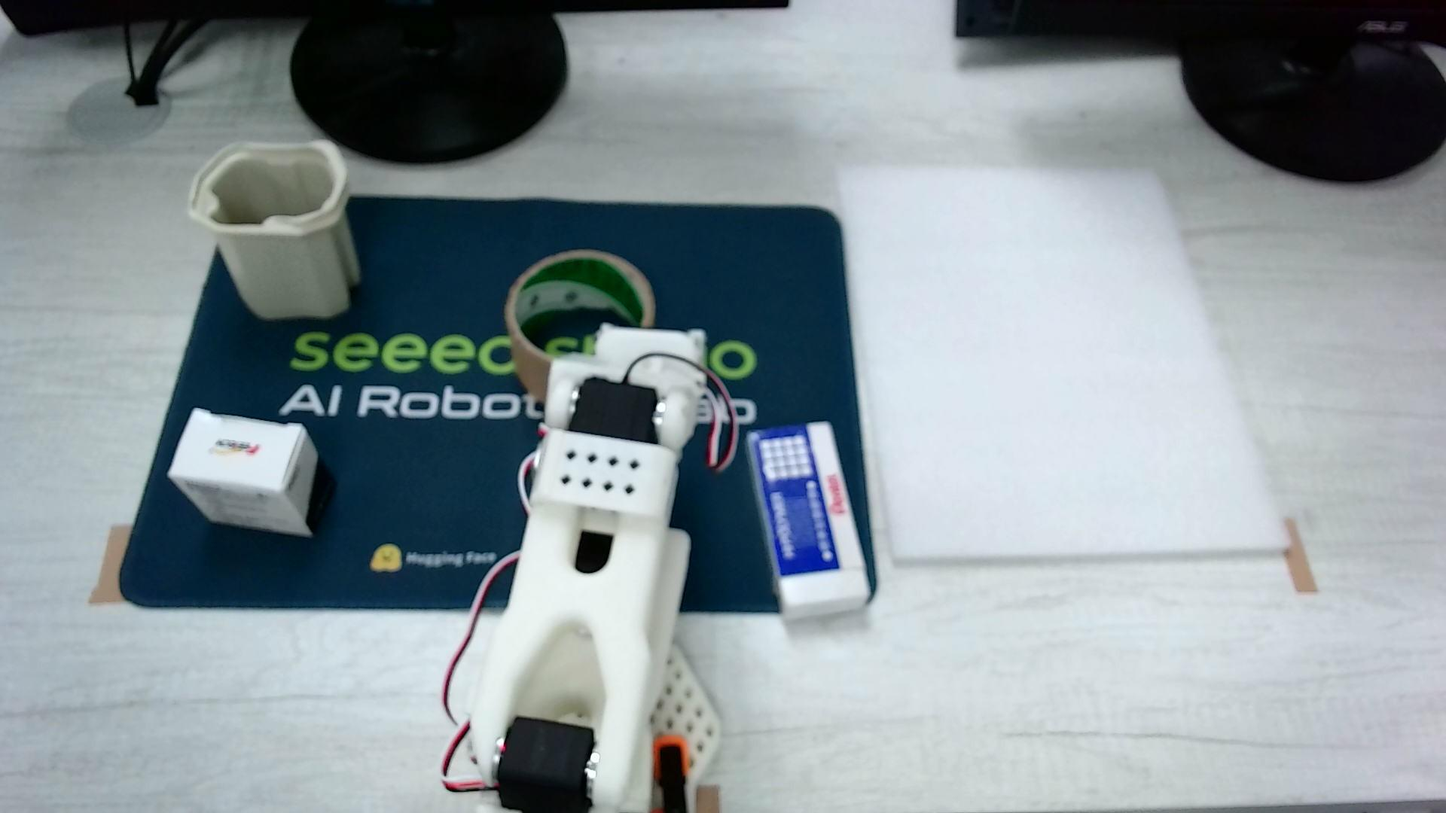eraser: (166, 408, 329, 537)
